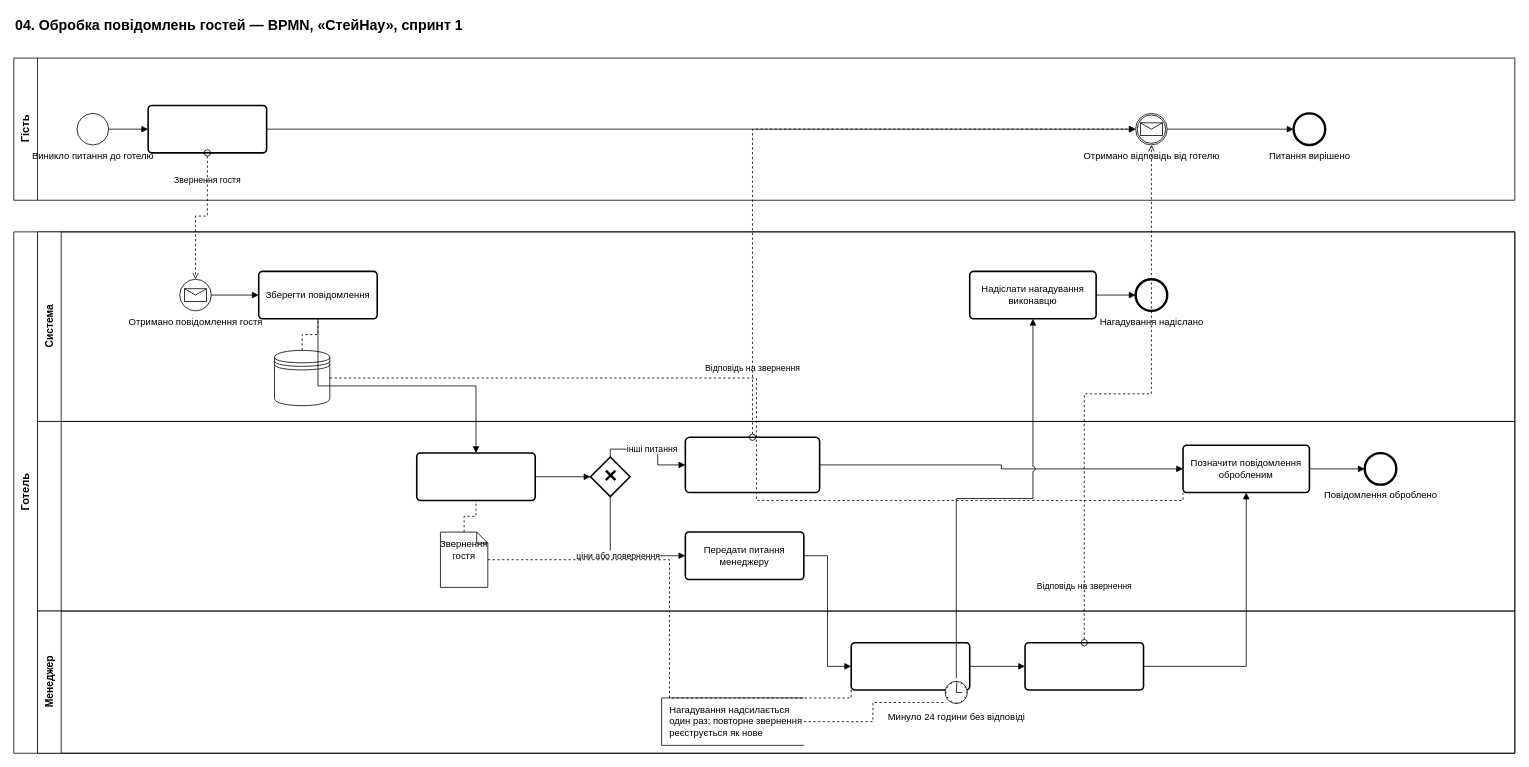
This 1529x767 diagram has some shape labels left out. The shapes that lost their labels are listed below. From the top down, each one's box as (x1, y1, x2, y2) in pixels, then its label:
(147, 104, 267, 153): Надіслати контактну форму
(274, 350, 330, 406): Повідомлення
(416, 452, 536, 501): Переглянути повідомлення
(589, 456, 630, 497): Який тип питання?
(684, 436, 820, 493): Підготувати й надіслати відповідь самостійно
(37, 421, 1515, 611): Адміністратор готелю
(850, 641, 970, 690): Підготувати відповідь
(1024, 641, 1144, 690): Надіслати відповідь на email
